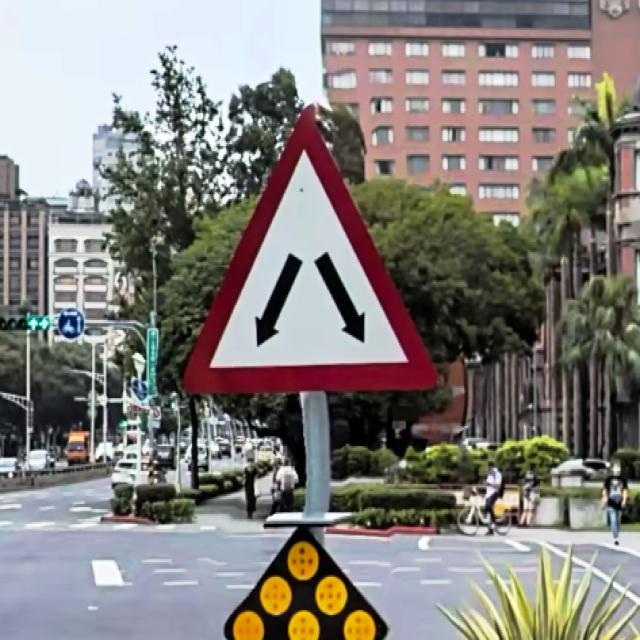diverge: (184, 109, 438, 396)
